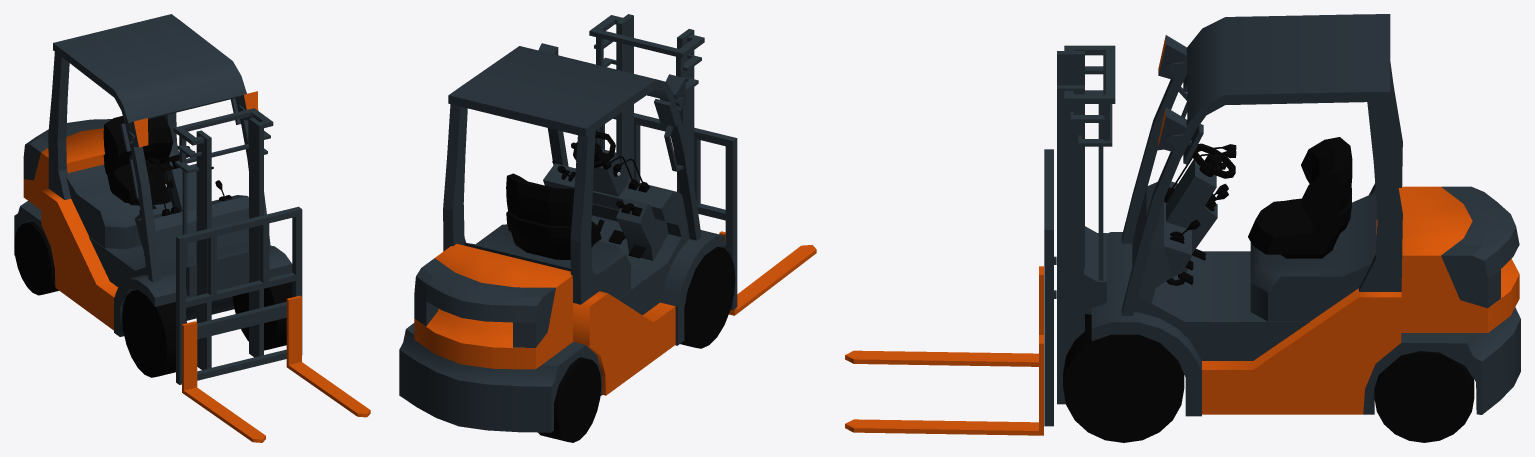
The model's file is forkleft_ADJ.fbx.
3 renders of one model, left to right at view 1: azimuth 30°, elevation 25°; view 2: azimuth 150°, elevation 25°; view 3: azimuth 270°, elevation 25°, orthographic. The views are drawn at different scales.
Visible parts, largest first — view 1: Box017, Box001, Box004, Box007, Box021, Box022, Cone002, Box023, Box016, Box018, Cone004, Box002 (+10 smaller); view 2: Box017, Box019, Box018, Box020, Box007, Box021, Box023, Cone002, Box001, Cone004, Box022, Box004 (+7 smaller); view 3: Box017, Box007, Box021, Cone001, Box018, Box022, Box004, Box023, Cone003, Box019, Box020, Box016 (+10 smaller).
Boxes of the visible parts, bbox=[...] form: Box017: bbox=[48, 14, 271, 282]; Box001: bbox=[176, 206, 302, 384]; Box004: bbox=[196, 117, 263, 369]; Box007: bbox=[41, 188, 118, 330]; Box021: bbox=[89, 195, 248, 286]; Box022: bbox=[66, 151, 174, 249]; Cone002: bbox=[122, 289, 186, 377]; Box023: bbox=[103, 116, 173, 205]; Box016: bbox=[114, 245, 292, 336]; Box018: bbox=[23, 128, 104, 209]; Cone004: bbox=[14, 221, 58, 295]; Box002: bbox=[286, 295, 370, 417]; Box017: bbox=[443, 46, 701, 304]; Box019: bbox=[399, 323, 602, 432]; Box018: bbox=[414, 244, 573, 369]; Box020: bbox=[414, 258, 555, 347]; Box007: bbox=[573, 291, 675, 395]; Box021: bbox=[543, 163, 689, 315]; Box023: bbox=[506, 173, 601, 259]; Cone002: bbox=[680, 247, 735, 348]; Box001: bbox=[595, 113, 737, 309]; Cone004: bbox=[538, 357, 601, 442]; Box022: bbox=[464, 224, 630, 299]; Box004: bbox=[616, 14, 694, 192]; Box017: bbox=[1121, 14, 1402, 315]; Box007: bbox=[1202, 220, 1401, 414]; Box021: bbox=[1132, 181, 1309, 360]; Cone001: bbox=[1063, 327, 1184, 442]; Box018: bbox=[1398, 186, 1519, 332]; Box022: bbox=[1250, 193, 1376, 321]; Box004: bbox=[1057, 51, 1084, 404]; Box023: bbox=[1248, 137, 1352, 258]; Cone003: bbox=[1374, 351, 1474, 442]; Box019: bbox=[1363, 307, 1520, 414]; Box020: bbox=[1441, 186, 1519, 308]; Box016: bbox=[1091, 232, 1201, 416].
Bounding box in the file's own units: 371 × 117 × 210.
